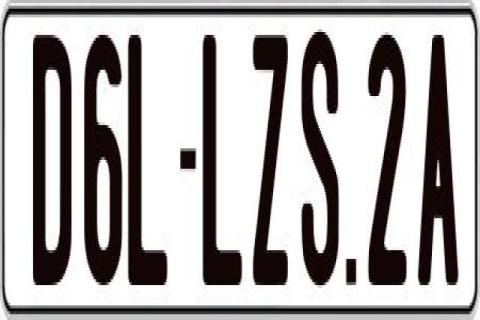0: (84, 35, 126, 285), (366, 27, 406, 280)
A: (416, 29, 456, 294)
D: (30, 35, 74, 291)
L: (128, 35, 172, 285), (202, 29, 246, 279)
S: (302, 26, 342, 288)
Z: (253, 26, 290, 282)
